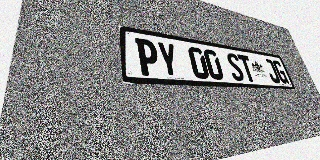0: (187, 46, 210, 79), (202, 49, 224, 80)
G: (272, 60, 289, 84)
J: (263, 58, 281, 83)
P: (135, 38, 161, 76)
S: (225, 52, 246, 81)
T: (237, 54, 257, 82)
Y: (156, 41, 180, 78)
